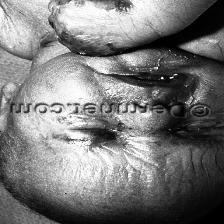Non-Cancerous Skin Condition: (46, 120, 224, 166), (12, 0, 126, 56), (96, 60, 196, 96)
